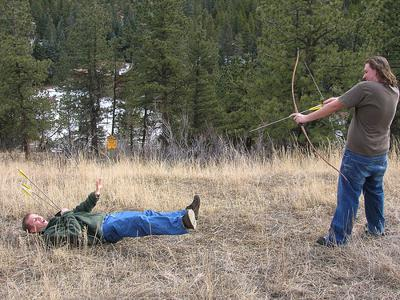person: (291, 58, 400, 248)
